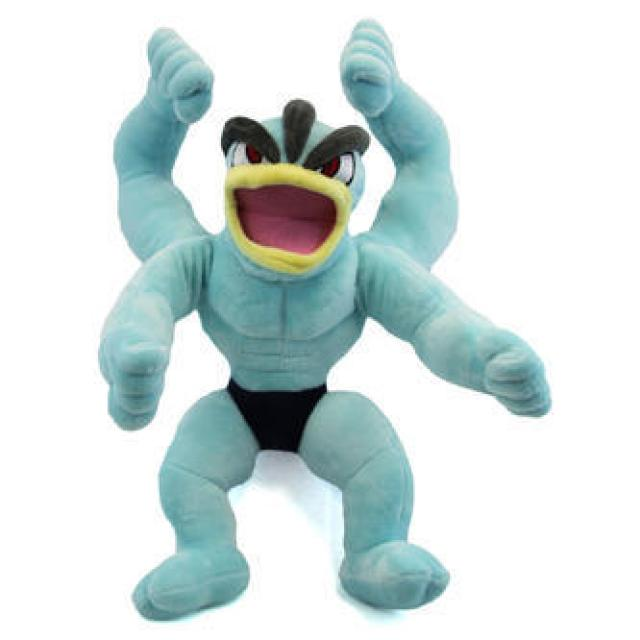Machamp: (111, 16, 445, 629)
